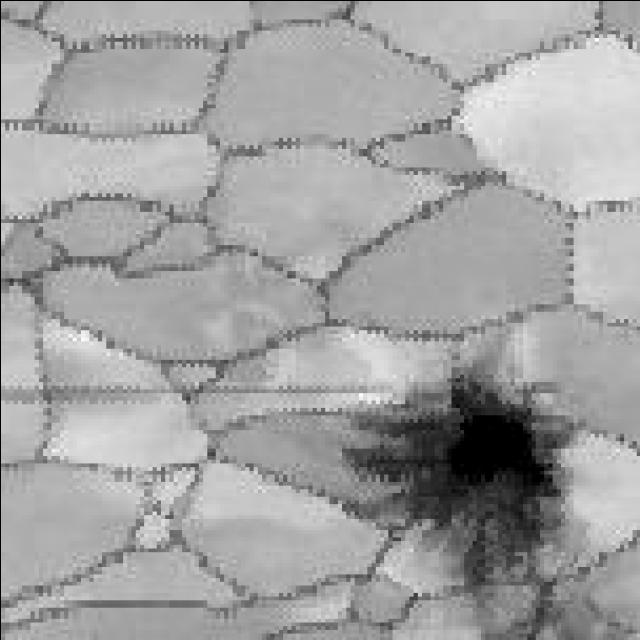good_void: (339, 344, 583, 609)
